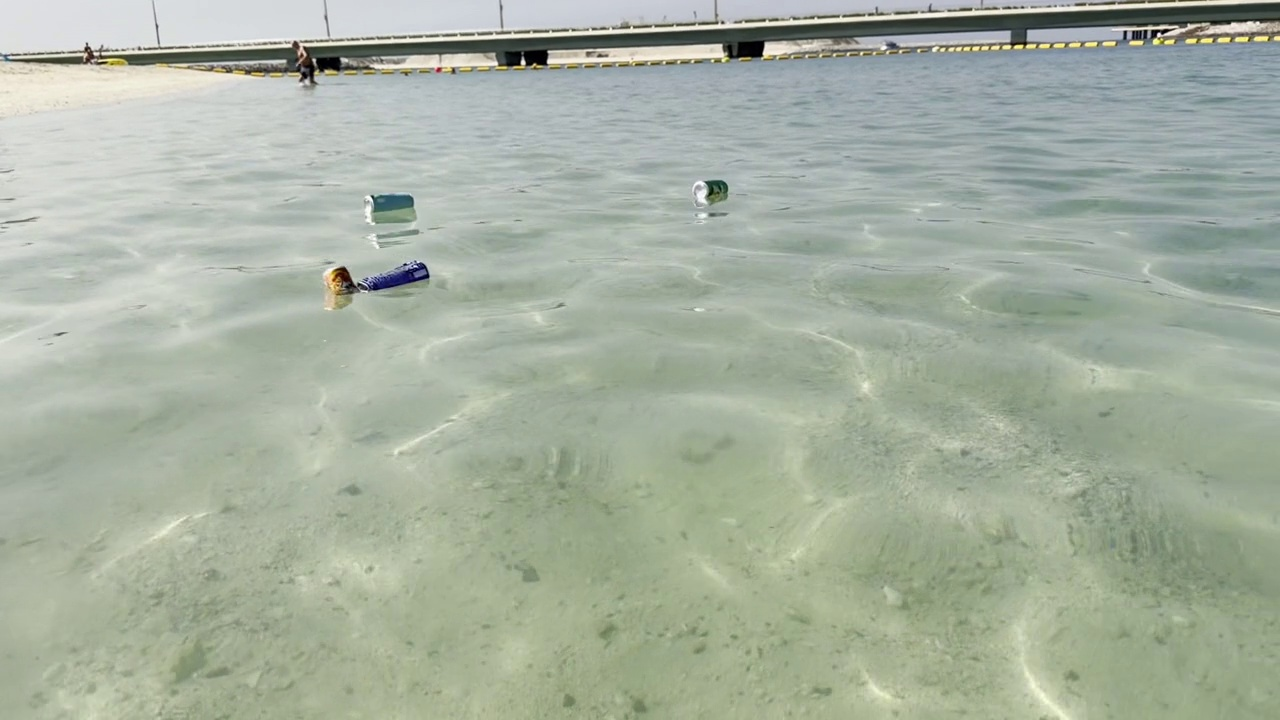debris: (357, 254, 437, 305), (316, 259, 360, 307), (355, 191, 423, 220), (688, 176, 732, 204)
